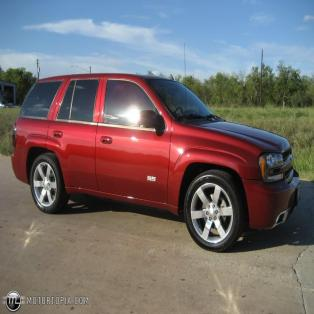Auto: (10, 70, 304, 250)
